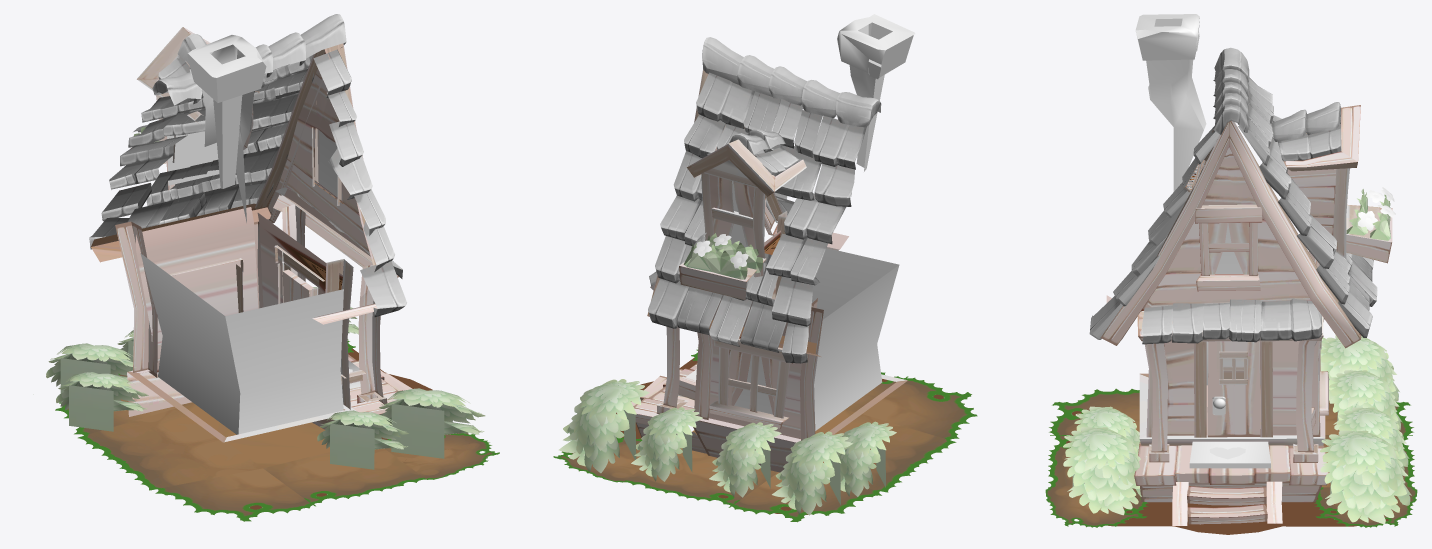
File: GrannyHouse.fbx
3 views of the same model, side by side, from view 1: azimuth 30°, elevation 25°; view 2: azimuth 150°, elevation 25°; view 3: azimuth 270°, elevation 25° (orthographic). The views are drawn at different scales.
Visible parts, largest first — view 1: GrannyHouse, FarmerHouseGround, FarmerHouseSideRoof, FarmerHouseChimney, BushSmall, BushSmall (1), FarmerHouseRoof, BushSmallBlue (2), FarmerHouseWindowDay, BushSmallBlue (1), Scaler, FarmerHouseSmallRoofs (+1 smaller); view 2: FarmerHouseSideRoof, GrannyHouse, FarmerHouseGround, Scaler, BushSmall (1) (×2), FarmerHouseRoof, BushSmall, FarmerHouseChimney, FarmerHouseWindowDay, BushSmallBlue (1), BushSmallBlue, FarmerHouseSmallRoofs; view 3: GrannyHouse, FarmerHouseSideRoof, BushSmall (×2), FarmerHouseSmallRoofs, FarmerHouseGround, Scaler, FarmerHouseChimney, FarmerHouseDoor005, FarmerHouseStairs, FarmerHouseShadow006 (×2), FarmerHouseRoof, BushSmallBlue (1) (+4 smaller).
Part boxes in pixels (x1=…): GrannyHouse: x1=91, y1=43, x2=402, y2=442; FarmerHouseGround: x1=55, y1=339, x2=499, y2=521; FarmerHouseSideRoof: x1=89, y1=49, x2=406, y2=317; FarmerHouseChimney: x1=187, y1=35, x2=266, y2=222; BushSmall: x1=379, y1=388, x2=485, y2=458; BushSmall (1): x1=56, y1=372, x2=148, y2=431; FarmerHouseRoof: x1=152, y1=14, x2=346, y2=105; BushSmallBlue (2): x1=317, y1=410, x2=408, y2=469; FarmerHouseWindowDay: x1=164, y1=129, x2=342, y2=200; BushSmallBlue (1): x1=46, y1=343, x2=136, y2=403; Scaler: x1=130, y1=27, x2=259, y2=163; FarmerHouseSmallRoofs: x1=158, y1=33, x2=402, y2=278; FarmerHouseSideRoof: x1=648, y1=72, x2=866, y2=363; GrannyHouse: x1=633, y1=69, x2=907, y2=472; FarmerHouseGround: x1=553, y1=349, x2=977, y2=522; Scaler: x1=679, y1=139, x2=806, y2=300; BushSmall (1) (×2): x1=709, y1=421, x2=896, y2=497; FarmerHouseRoof: x1=702, y1=37, x2=881, y2=127; BushSmall: x1=558, y1=379, x2=649, y2=473; FarmerHouseChimney: x1=837, y1=14, x2=915, y2=196; FarmerHouseWindowDay: x1=709, y1=175, x2=779, y2=414; BushSmallBlue (1): x1=772, y1=431, x2=852, y2=515; BushSmallBlue: x1=631, y1=407, x2=702, y2=481; FarmerHouseSmallRoofs: x1=649, y1=128, x2=799, y2=286; GrannyHouse: x1=1100, y1=121, x2=1361, y2=502; FarmerHouseSideRoof: x1=1089, y1=77, x2=1377, y2=339; BushSmall (×2): x1=1063, y1=427, x2=1411, y2=524; FarmerHouseSmallRoofs: x1=1141, y1=102, x2=1341, y2=344; FarmerHouseGround: x1=1045, y1=388, x2=1417, y2=527; Scaler: x1=1283, y1=105, x2=1392, y2=263; FarmerHouseChimney: x1=1135, y1=14, x2=1206, y2=191; FarmerHouseDoor005: x1=1207, y1=341, x2=1260, y2=437; FarmerHouseStairs: x1=1172, y1=481, x2=1282, y2=526; FarmerHouseShadow006 (×2): x1=1066, y1=411, x2=1388, y2=534; FarmerHouseRoof: x1=1213, y1=47, x2=1249, y2=134; BushSmallBlue (1): x1=1320, y1=335, x2=1399, y2=405.
Size of the model in its own units: 4.28 by 5.37 by 4.4.
Materials: 5 (4 with a texture image).
